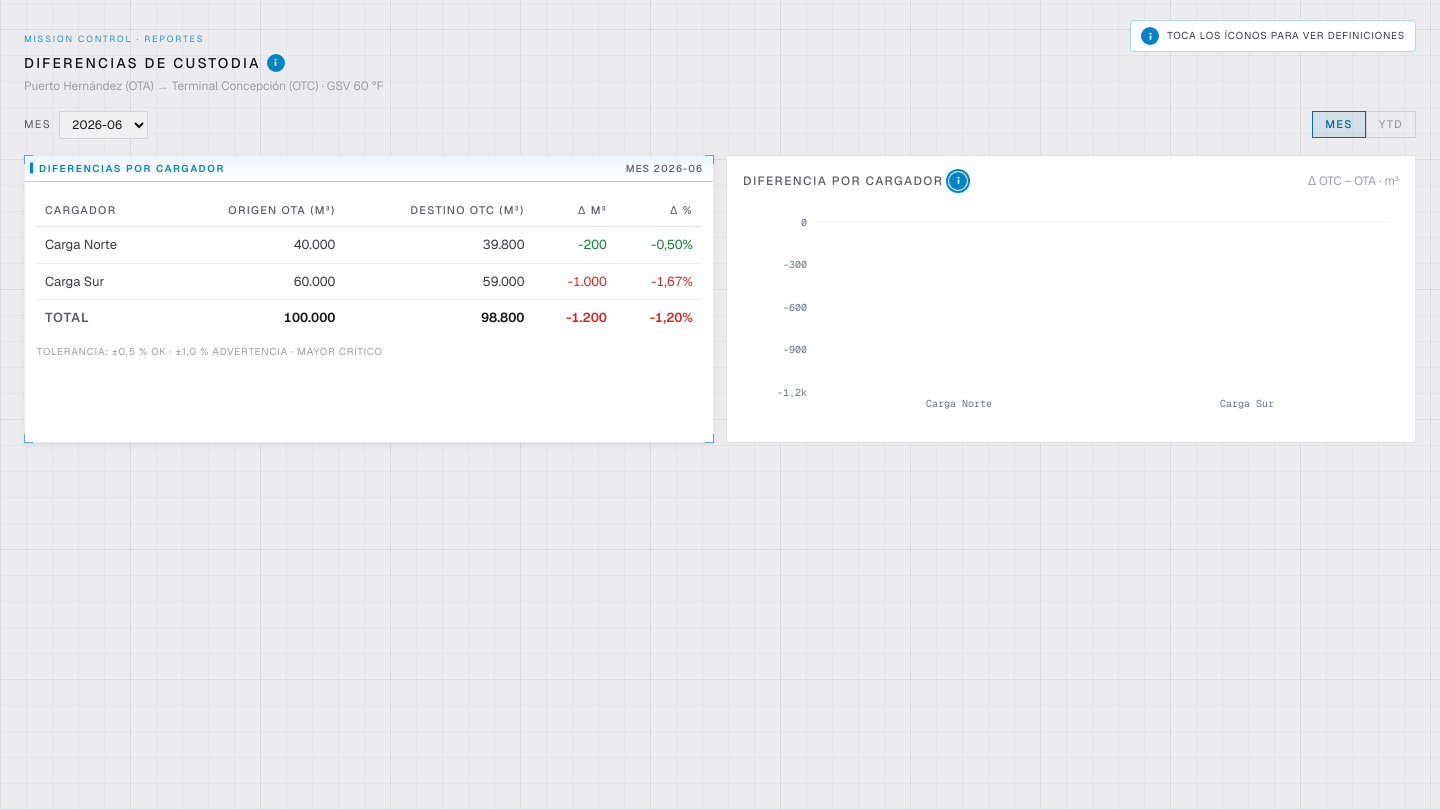
Test: CustodyDifferencesReportPage — MV-18 › aggregates the year to date through the selected month in the YTD view
Click the button "YTD". click: click(1391, 125)
box: x1=1366 y1=111 x2=1416 y2=138
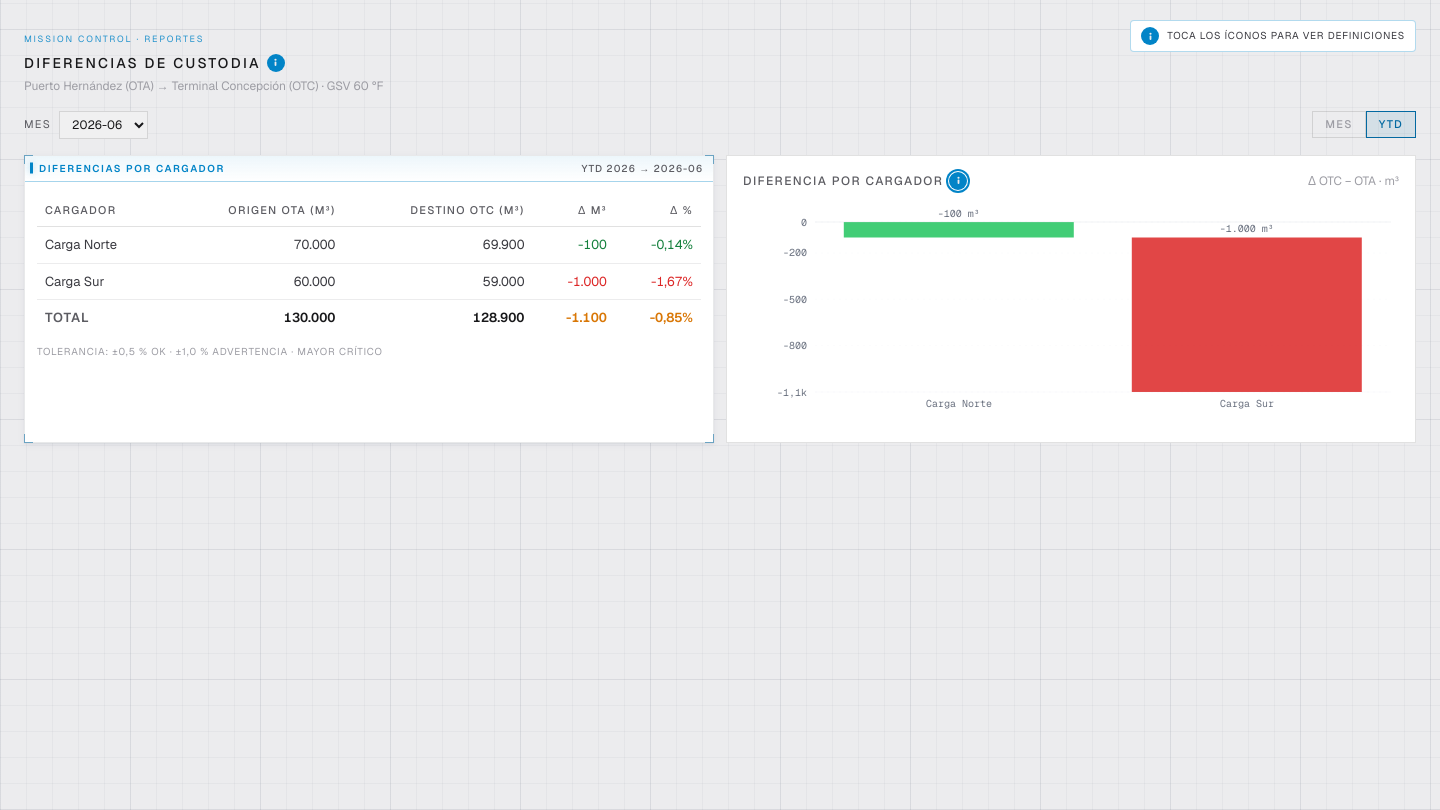
Check: the text "69.900" is shown, box x1=343 y1=226 x2=532 y2=263
Check: the text "130.000" is shown, box x1=165 y1=300 x2=343 y2=336
Check: the text "128.900" is shown, box x1=343 y1=300 x2=532 y2=336
